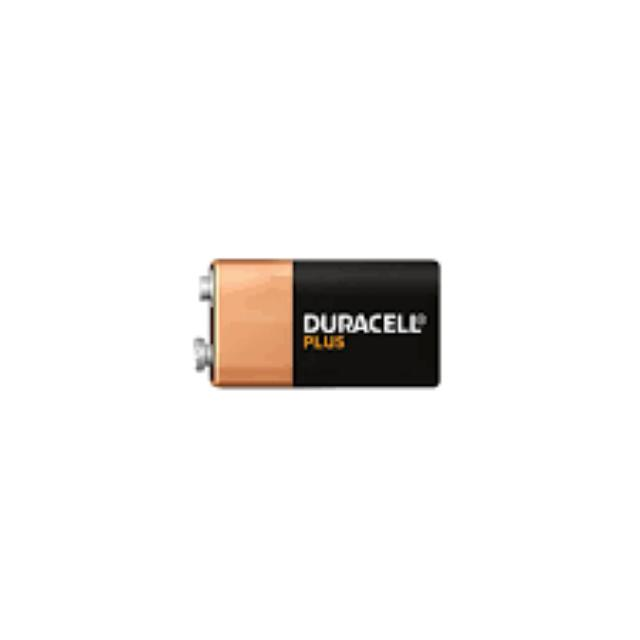Battery: (191, 259, 441, 390)
